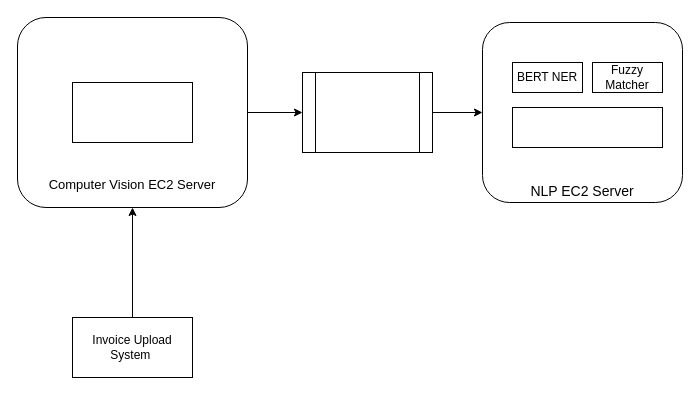
This 700x395 diagram has some shape labels left out. The shapes that lost their labels are listed below. From the top down, each one's centre as x and y in pixels, then its label:
At [132,112]: "PyTesseract Text Extraction".
At [367,112]: "RabbitMQ Message Broker".
At [587,127]: "Semantic Analysis and Classificatioin".
